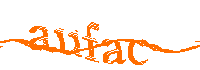a: (101, 37, 124, 66), (28, 23, 52, 50)
c: (127, 35, 150, 68)
f: (82, 22, 100, 65)
u: (55, 26, 81, 58)
